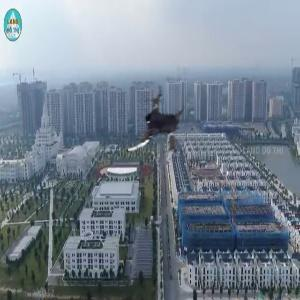drone: (106, 81, 199, 174)
